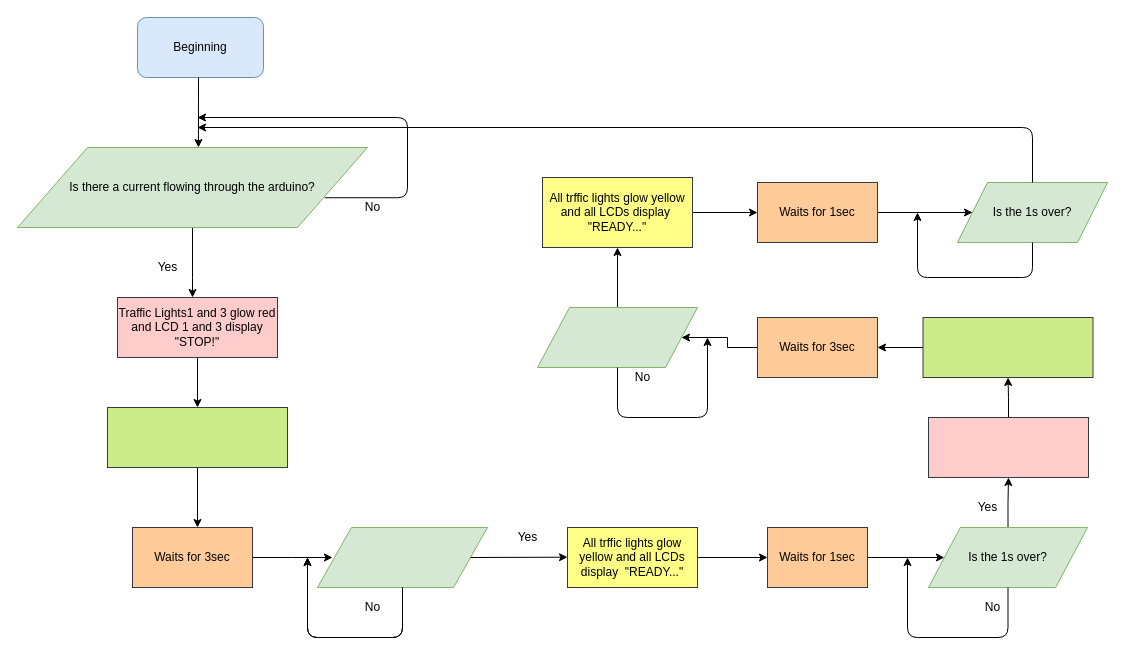
This 1125x663 diagram has some shape labels left out. The shapes that lost their labels are listed below. From the top down, each one's centre as x and y in pixels, then its label:
the point at 617,337: Are the 3sover?
the point at 1007,347: Traffic Lights1 and 3 glow red and LCD 1 and 3 display "GO!"
the point at 197,437: Traffic Lights 2 and 4 glow red and LCD 2 and 4 display "GO!"
the point at 1008,447: Traffic Lights 2 and 4 glow red and LCD 2 and 4 display "STOP!"
the point at 402,557: Are the 3s over?
